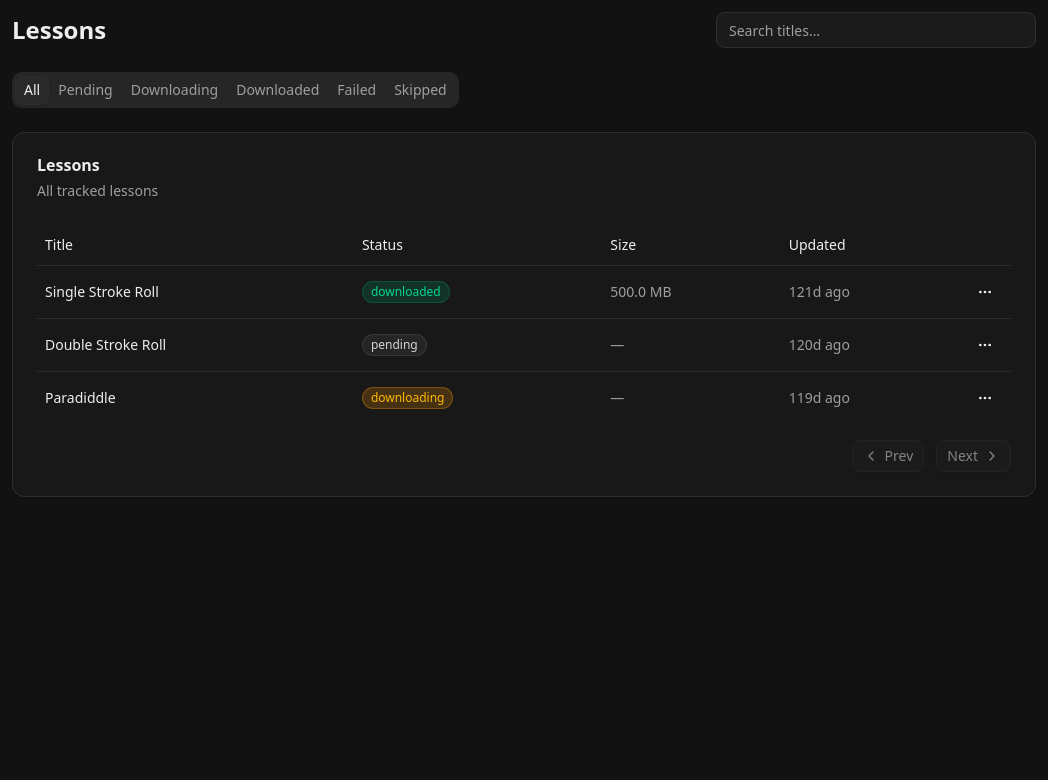
it: queues a download (202) and shows a 'Queued' toast
expect the text "Double Stroke Roll" is shown: met, box [37,318,354,371]
Click the button named "actions for double stroke roll" at point(985, 344), box [967,326,1003,362]
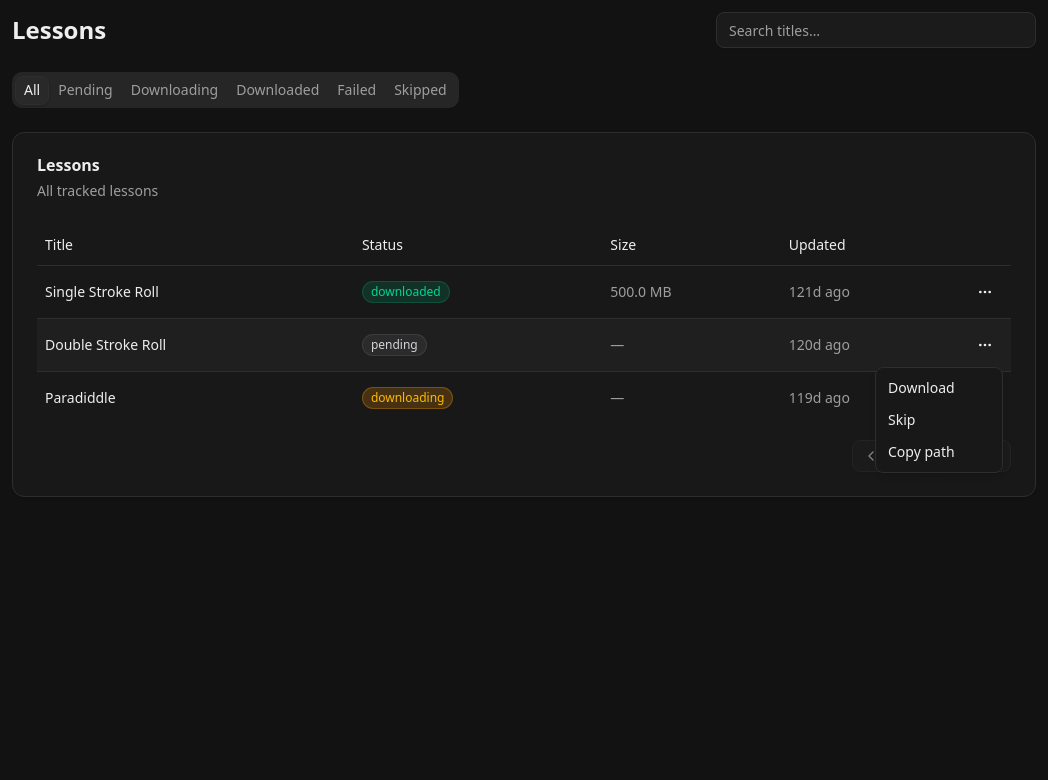
Click the menu item "Download" at point(921, 388), box [888,378,955,397]
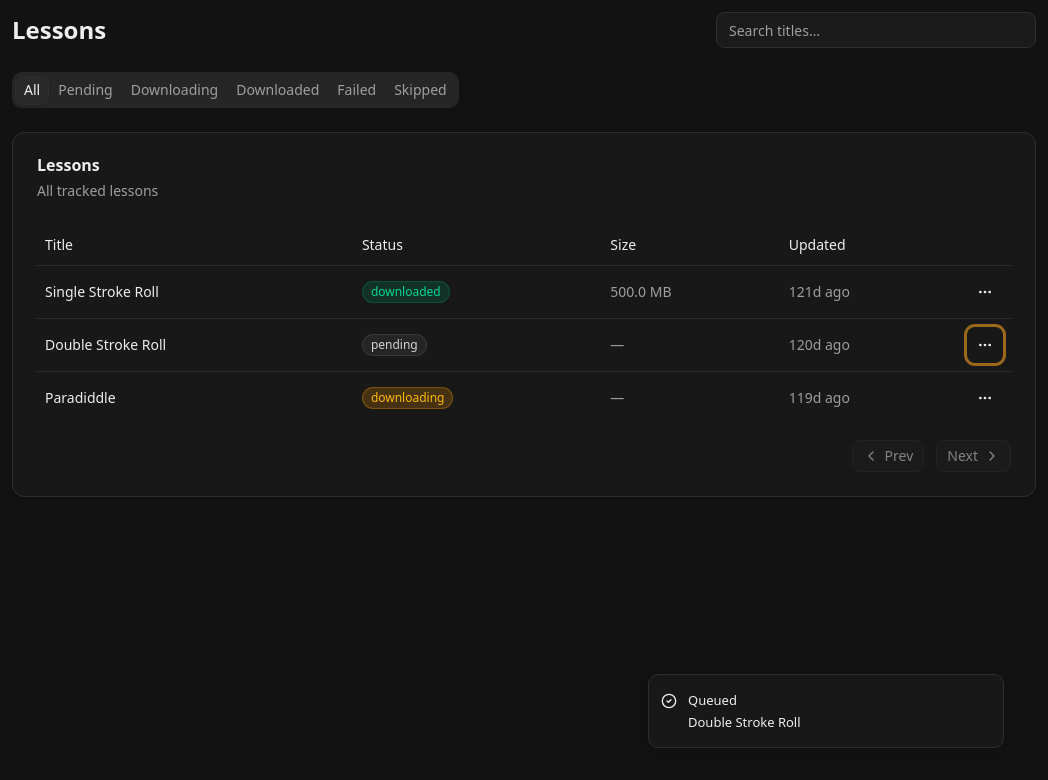
expect the text "Queued" is shown: met, box [688,691,737,709]
